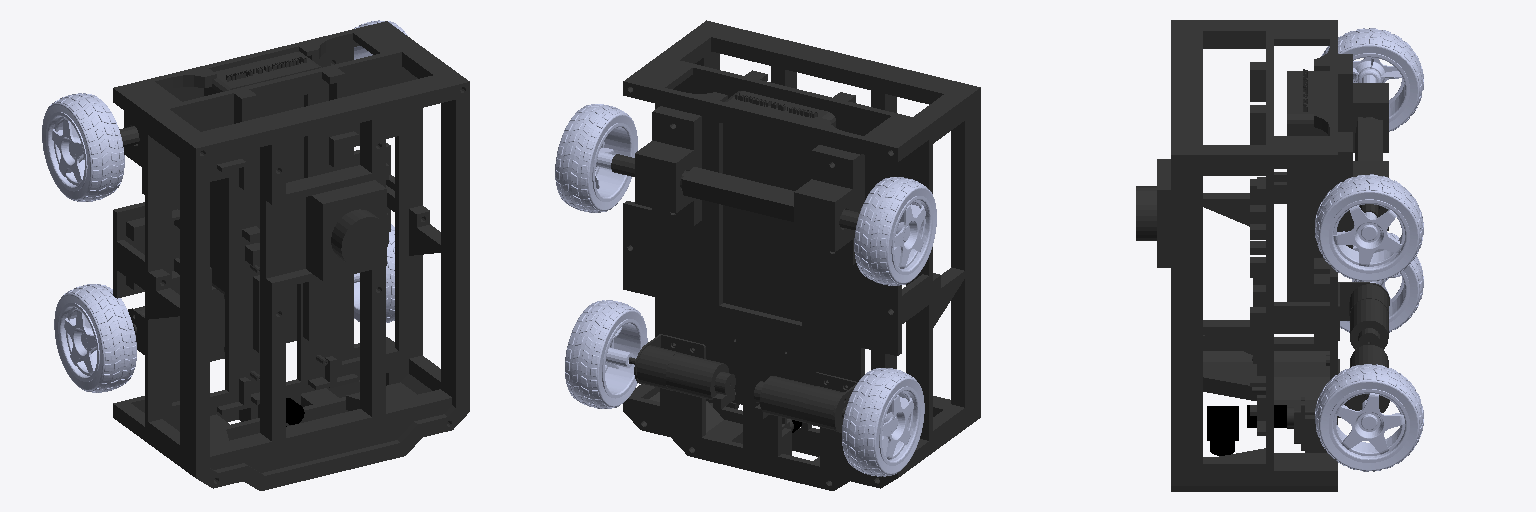
robot.urdf — Assemblage_BaseNonHolonome_ros:
<?xml version="1.0" encoding="utf-8"?>
<!-- This URDF was automatically created by SolidWorks to URDF Exporter! Originally created by [author] ([email redacted]) 
     Commit Version: 1.6.0-4-g7f85cfe  Build Version: 1.6.7995.38578
     For more information, please see http://wiki.ros.org/sw_urdf_exporter -->
<robot
  name="Assemblage_BaseNonHolonome_ros">
  <link
    name="base_link">
    <inertial>
      <origin
        xyz="-0.010726 0.00028706 0.031375"
        rpy="0 0 0" />
      <mass
        value="1.3207" />
      <inertia
        ixx="0.0061761"
        ixy="-6.0248E-06"
        ixz="-3.0142E-07"
        iyy="0.003574"
        iyz="0.00010826"
        izz="0.0095452" />
    </inertial>
    <visual>
      <origin
        xyz="0 0 0"
        rpy="0 0 0" />
      <geometry>
        <mesh
          filename="package://Assemblage_BaseNonHolonome_ros/meshes/base_link.STL" />
      </geometry>
      <material
        name="">
        <color
          rgba="0.25098 0.25098 0.25098 1" />
      </material>
    </visual>
    <collision>
      <origin
        xyz="0 0 0"
        rpy="0 0 0" />
      <geometry>
        <mesh
          filename="package://Assemblage_BaseNonHolonome_ros/meshes/base_link.STL" />
      </geometry>
    </collision>
  </link>



  <link
    name="RoueAvantG_Link">
    <inertial>
      <origin
        xyz="-9.5918E-09 1.5974E-08 -0.007373"
        rpy="0 0 0" />
      <mass
        value="0.16695" />
      <inertia
        ixx="6.7293E-05"
        ixy="-1.511E-09"
        ixz="1.6485E-12"
        iyy="6.7296E-05"
        iyz="-2.7514E-12"
        izz="0.00011321" />
    </inertial>
    <visual>
      <origin
        xyz="0 0 0"
        rpy="0 0 0" />
      <geometry>
        <mesh
          filename="package://Assemblage_BaseNonHolonome_ros/meshes/RoueAvantG_Link.STL" />
      </geometry>
      <material
        name="">
        <color
          rgba="0.79216 0.81961 0.93333 1" />
      </material>
    </visual>
    <collision>
      <origin
        xyz="0 0 0"
        rpy="0 0 0" />
      <geometry>
        <mesh
          filename="package://Assemblage_BaseNonHolonome_ros/meshes/RoueAvantG_Link.STL" />
      </geometry>
    </collision>
  </link>



  <joint
    name="RoueAvantG_Joint"
    type="continuous">
    <origin
      xyz="0.097644 0.028097 -0.0662"
      rpy="0 1.5708 0" />
    <parent
      link="base_link" />
    <child
      link="RoueAvantG_Link" />
    <axis
      xyz="0 0 -1" />
    <limit
      effort="10"
      velocity="1000" />
    <dynamics
      damping="0.1"
      friction="0.1" />
    <safety_controller
      k_position="10"
      k_velocity="10" />

  </joint>



  <link
    name="RoueAvantD_Link">
    <inertial>
      <origin
        xyz="2.8477E-09 -1.8414E-08 -0.007373"
        rpy="0 0 0" />
      <mass
        value="0.16695" />
      <inertia
        ixx="6.7293E-05"
        ixy="-3.128E-10"
        ixz="-4.8718E-13"
        iyy="6.7296E-05"
        iyz="3.1703E-12"
        izz="0.00011321" />
    </inertial>
    <visual>
      <origin
        xyz="0 0 0"
        rpy="0 0 0" />
      <geometry>
        <mesh
          filename="package://Assemblage_BaseNonHolonome_ros/meshes/RoueAvantD_Link.STL" />
      </geometry>
      <material
        name="">
        <color
          rgba="0.79216 0.81961 0.93333 1" />
      </material>
    </visual>
    <collision>
      <origin
        xyz="0 0 0"
        rpy="0 0 0" />
      <geometry>
        <mesh
          filename="package://Assemblage_BaseNonHolonome_ros/meshes/RoueAvantD_Link.STL" />
      </geometry>
    </collision>
  </link>



  <joint
    name="RoueAvantD_Joint"
    type="continuous">
    <origin
      xyz="-0.12036 0.028097 -0.0662"
      rpy="3.1416 1.5708 0" />
    <parent
      link="base_link" />
    <child
      link="RoueAvantD_Link" />
    <axis
      xyz="0 0 -1" />
    <limit
      effort="10"
      velocity="1000" />
    <dynamics
      damping="0.1"
      friction="0.1" />
    <safety_controller
      k_position="10"
      k_velocity="10" />
  </joint>



  <link
    name="RoueArriereD_Link">
    <inertial>
      <origin
        xyz="4.1252E-09 -1.817E-08 -0.007373"
        rpy="0 0 0" />
      <mass
        value="0.16695" />
      <inertia
        ixx="6.7293E-05"
        ixy="-5.6591E-10"
        ixz="-7.0713E-13"
        iyy="6.7296E-05"
        iyz="3.1286E-12"
        izz="0.00011321" />
    </inertial>
    <visual>
      <origin
        xyz="0 0 0"
        rpy="0 0 0" />
      <geometry>
        <mesh
          filename="package://Assemblage_BaseNonHolonome_ros/meshes/RoueArriereD_Link.STL" />
      </geometry>
      <material
        name="">
        <color
          rgba="0.79216 0.81961 0.93333 1" />
      </material>
    </visual>
    <collision>
      <origin
        xyz="0 0 0"
        rpy="0 0 0" />
      <geometry>
        <mesh
          filename="package://Assemblage_BaseNonHolonome_ros/meshes/RoueArriereD_Link.STL" />
      </geometry>
    </collision>
  </link>



  <joint
    name="RoueArriereD_Joint"
    type="continuous">
    <origin
      xyz="-0.12936 0.028097 0.0688"
      rpy="3.1416 1.5708 0" />
    <parent
      link="base_link" />
    <child
      link="RoueArriereD_Link" />
    <axis
      xyz="0 0 1" />
    <limit
      effort="10"
      velocity="1000" />
    <dynamics
      damping="0.1"
      friction="0.1" />
    <safety_controller
      k_position="10"
      k_velocity="10" />
  </joint>



  <link
    name="RoueArriereG_Link">
    <inertial>
      <origin
        xyz="1.5172E-09 1.8571E-08 -0.007373"
        rpy="0 0 0" />
      <mass
        value="0.16695" />
      <inertia
        ixx="6.7293E-05"
        ixy="5.5456E-10"
        ixz="-2.6422E-13"
        iyy="6.7296E-05"
        iyz="-3.1966E-12"
        izz="0.00011321" />
    </inertial>
    <visual>
      <origin
        xyz="0 0 0"
        rpy="0 0 0" />
      <geometry>
        <mesh
          filename="package://Assemblage_BaseNonHolonome_ros/meshes/RoueArriereG_Link.STL" />
      </geometry>
      <material
        name="">
        <color
          rgba="0.79216 0.81961 0.93333 1" />
      </material>
    </visual>
    <collision>
      <origin
        xyz="0 0 0"
        rpy="0 0 0" />
      <geometry>
        <mesh
          filename="package://Assemblage_BaseNonHolonome_ros/meshes/RoueArriereG_Link.STL" />
      </geometry>
    </collision>
  </link>



  <joint
    name="RoueArriereG_Joint"
    type="continuous">
    <origin
      xyz="0.10464 0.028097 0.0688"
      rpy="0 1.5708 0" />
    <parent
      link="base_link" />
    <child
      link="RoueArriereG_Link" />
    <axis
      xyz="0 0 -1" />
    <limit
      effort="10"
      velocity="1000" />
    <dynamics
      damping="0.1"
      friction="0.1" />
    <safety_controller
      k_position="10"
      k_velocity="10" />
  </joint>



  <link
    name="UltrasonicSensor_Link">
    <inertial>
      <origin
        xyz="-0.0027649 -0.00029172 0.023765"
        rpy="0 0 0" />
      <mass
        value="0.0064163" />
      <inertia
        ixx="7.4924E-07"
        ixy="-1.3067E-08"
        ixz="-1.0584E-10"
        iyy="3.4235E-07"
        iyz="5.116E-12"
        izz="5.6077E-07" />
    </inertial>
    <visual>
      <origin
        xyz="0 0 0"
        rpy="0 0 0" />
      <geometry>
        <mesh
          filename="package://Assemblage_BaseNonHolonome_ros/meshes/UltrasonicSensor_Link.STL" />
      </geometry>
      <material
        name="">
        <color
          rgba="0 0 0 1" />
      </material>
    </visual>
    <collision>
      <origin
        xyz="0 0 0"
        rpy="0 0 0" />
      <geometry>
        <mesh
          filename="package://Assemblage_BaseNonHolonome_ros/meshes/UltrasonicSensor_Link.STL" />
      </geometry>
    </collision>
  </link>


  
  <joint
    name="UltrasonicSensor_Joint"
    type="revolute">
    <origin
      xyz="-0.011256 -0.023653 -0.1123"
      rpy="1.5708 -1.5708 0" />
    <parent
      link="base_link" />
    <child
      link="UltrasonicSensor_Link" />
    <axis
      xyz="0 0 1" />
    <dynamics
      damping="0.1"
      friction="0.1" />
    <safety_controller
      k_position="10"
      k_velocity="10" />
  </joint>
</robot>

--- What the picture shows (computed from the rendered views, not written in the file) ---
Views: 3 orthographic renders of the robot side by side, from view 1: azimuth 30°, elevation 25°; view 2: azimuth 150°, elevation 25°; view 3: azimuth 270°, elevation 25°.
Model Assemblage_BaseNonHolonome_ros with 6 links and 5 joints (1 revolute, 4 continuous), rooted at base_link, posed all joints at 0.
Links seen in each view (by area): view 1: base_link, RoueArriereD_Link, RoueAvantD_Link, RoueAvantG_Link; view 2: base_link, RoueArriereD_Link, RoueAvantD_Link, RoueAvantG_Link, RoueArriereG_Link; view 3: base_link, RoueArriereG_Link, RoueAvantG_Link, RoueArriereD_Link, UltrasonicSensor_Link, RoueAvantD_Link.
Link boxes in pixels (box(x1,y1,x2,y2)): base_link: box(113, 21, 469, 490); RoueArriereD_Link: box(42, 93, 124, 201); RoueAvantD_Link: box(54, 284, 136, 392); RoueAvantG_Link: box(354, 224, 394, 322); base_link: box(611, 20, 980, 490); RoueArriereD_Link: box(854, 177, 936, 285); RoueAvantD_Link: box(842, 368, 924, 476); RoueAvantG_Link: box(565, 300, 647, 408); RoueArriereG_Link: box(555, 104, 637, 212); base_link: box(1136, 20, 1389, 491); RoueArriereG_Link: box(1315, 174, 1423, 281); RoueAvantG_Link: box(1315, 364, 1423, 471); RoueArriereD_Link: box(1321, 28, 1423, 131); UltrasonicSensor_Link: box(1207, 405, 1286, 455); RoueAvantD_Link: box(1340, 232, 1423, 332).
Size in the robot's own frame: 0.243 by 0.1815 by 0.25 metres.
Meshes: 6 distinct files referenced, 6 mesh visuals loaded (6 binary STL).